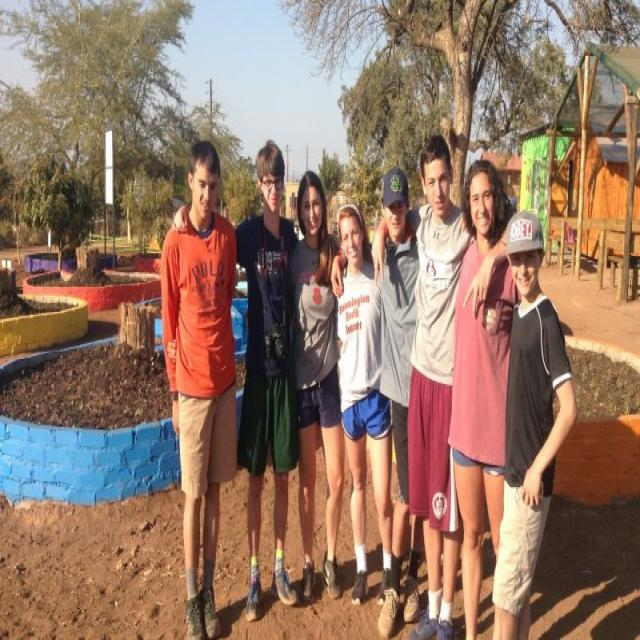body: (170, 132, 302, 621), (371, 132, 478, 640), (329, 161, 425, 638), (155, 138, 239, 638), (489, 207, 576, 640), (445, 156, 521, 638), (285, 165, 343, 604), (333, 200, 395, 608)
